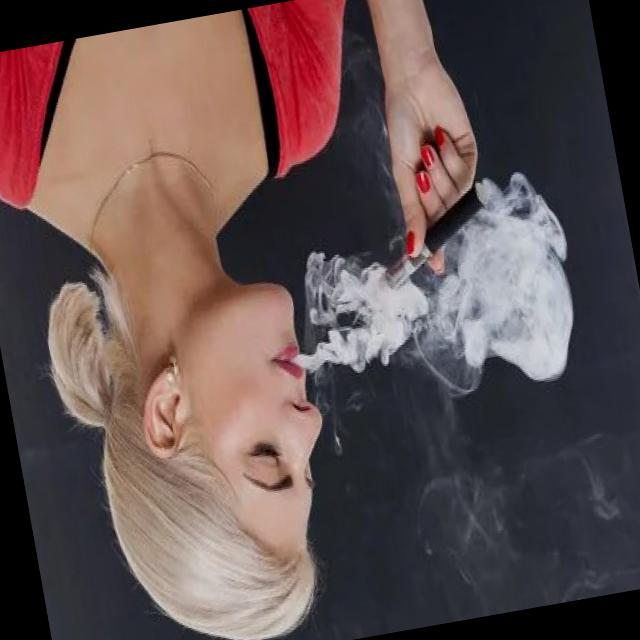smoke: (349, 175, 508, 312)
